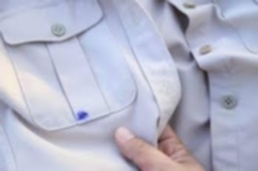ink: (77, 109, 88, 121)
